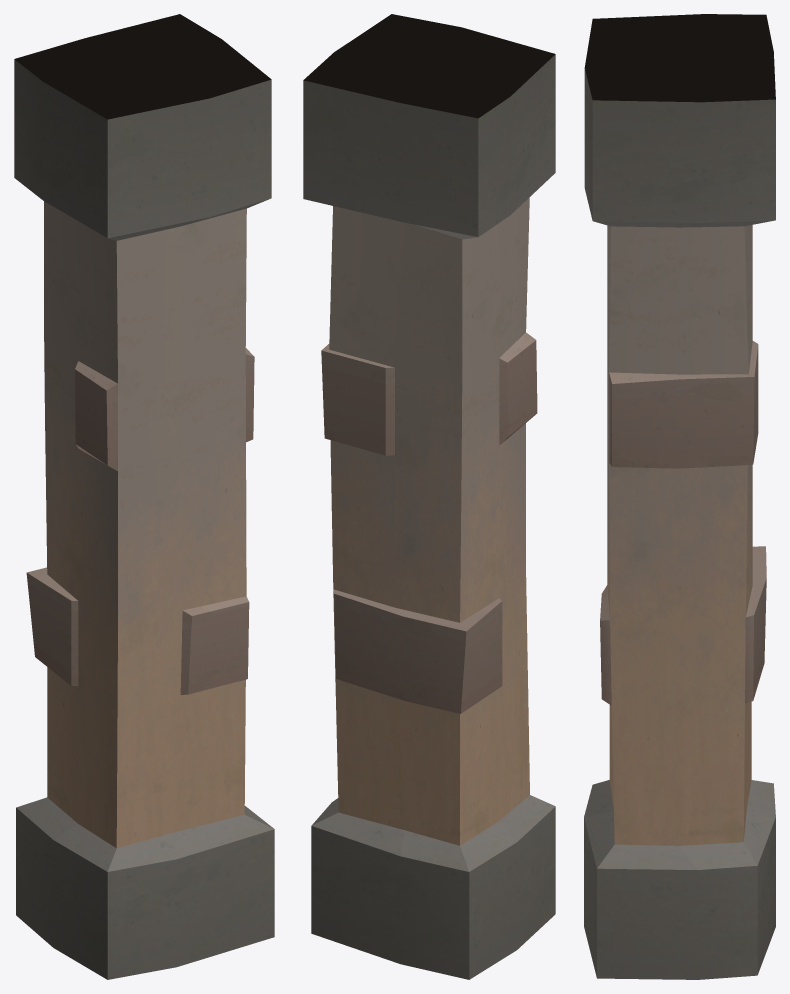
The model's file is Pillar.fbx.
3 views of the same model, side by side, from view 1: azimuth 30°, elevation 25°; view 2: azimuth 150°, elevation 25°; view 3: azimuth 270°, elevation 25° (orthographic).
Parts seen in each view (by area): view 1: Pillar; view 2: Pillar; view 3: Pillar.
Part boxes in pixels (<box>): Pillar: <box>14,14,274,979</box>; Pillar: <box>303,14,555,979</box>; Pillar: <box>584,14,775,979</box>.
Bounding box in the file's own units: 113 × 512 × 102.
